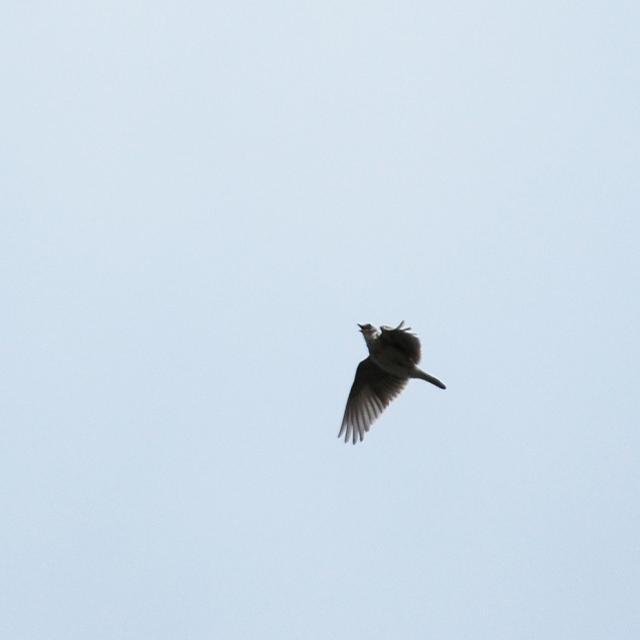bird: (340, 324, 449, 450)
